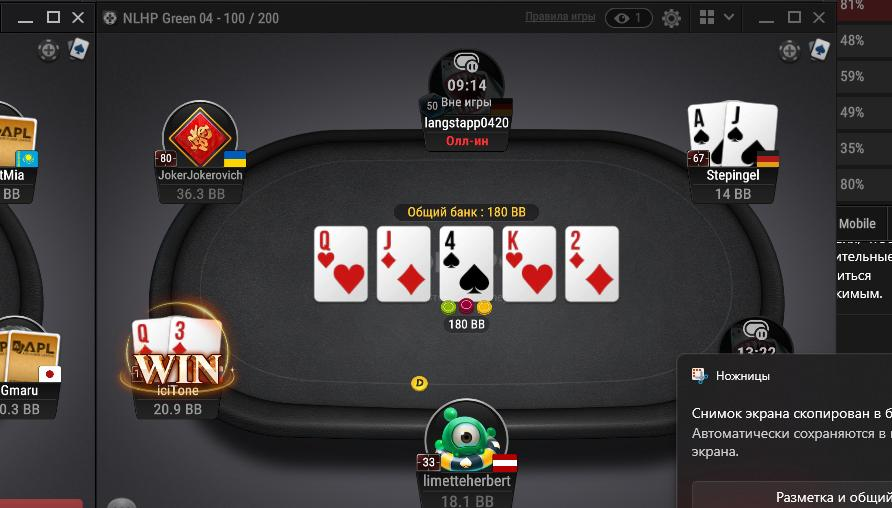2d: (567, 227, 617, 301)
3d: (169, 317, 222, 356)
4s: (439, 228, 493, 301)
As: (687, 99, 728, 166)
Jd: (378, 227, 431, 301)
Js: (725, 99, 778, 165)
Kh: (503, 227, 557, 301)
Qd: (130, 317, 170, 357)
Qh: (315, 227, 367, 302)
